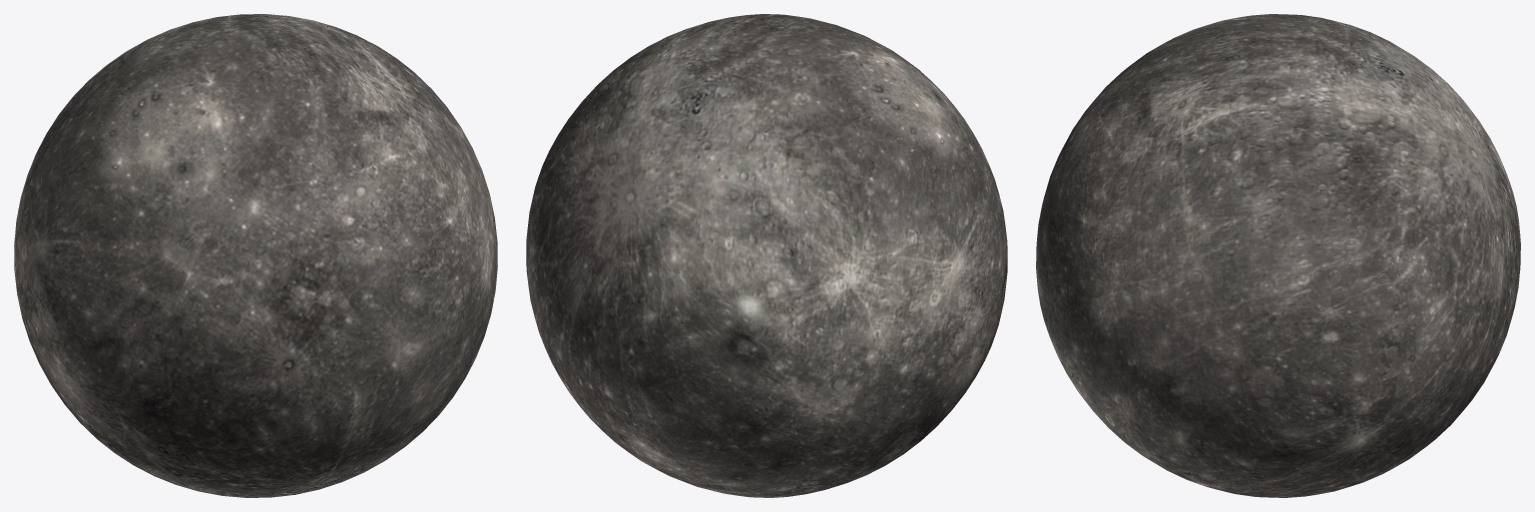
Rendered from Venus.glb.
3 views of the same model, side by side, from view 1: azimuth 30°, elevation 25°; view 2: azimuth 150°, elevation 25°; view 3: azimuth 270°, elevation 25° (orthographic).
Parts seen in each view (by area): view 1: Venus; view 2: Venus; view 3: Venus.
Boxes of the visible parts, x1=… form: Venus: x1=14, y1=14, x2=497, y2=497; Venus: x1=526, y1=14, x2=1007, y2=497; Venus: x1=1036, y1=14, x2=1520, y2=497.
Bounding box in the file's own units: 2.01 × 2.01 × 2.01.
Materials: 1 (1 with a texture image).
